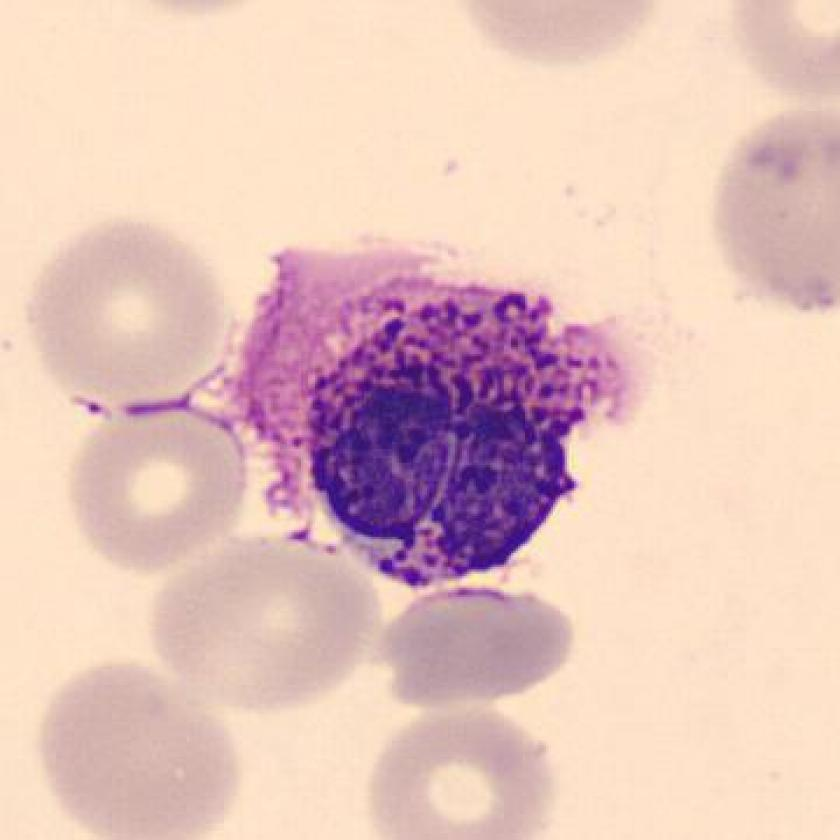basophil: (274, 267, 654, 591)
